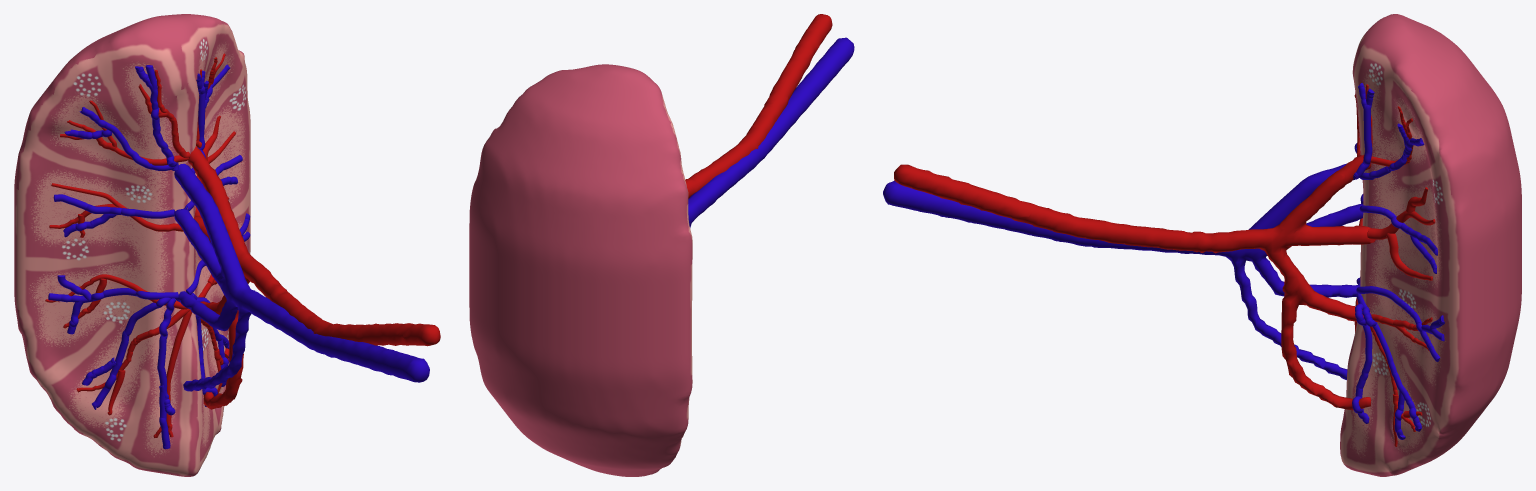
The model's file is spleen_model.glb.
3 renders of one model, left to right at view 1: azimuth 30°, elevation 25°; view 2: azimuth 150°, elevation 25°; view 3: azimuth 270°, elevation 25°, orthographic. The views are drawn at different scales.
Visible parts, largest first — view 1: Object_9, Object_8, Object_7, Object_5, Object_4, Object_6, Object_3, Object_2; view 2: Object_9, Object_8, Object_5; view 3: Object_9, Object_5, Object_8, Object_6, Object_3, Object_2.
Boxes of the visible parts, box(x1,y1,x2,y2) form: Object_9: box(14, 14, 250, 476); Object_8: box(174, 163, 429, 391); Object_7: box(48, 65, 178, 449); Object_5: box(188, 146, 440, 409); Object_4: box(45, 70, 192, 437); Object_6: box(184, 64, 250, 406); Object_3: box(196, 53, 229, 393); Object_2: box(194, 116, 235, 217); Object_9: box(469, 64, 692, 476); Object_8: box(688, 37, 854, 227); Object_5: box(685, 14, 832, 198); Object_9: box(1340, 14, 1521, 476); Object_5: box(894, 155, 1371, 410); Object_8: box(883, 163, 1363, 380); Object_6: box(1352, 83, 1444, 439); Object_3: box(1363, 84, 1432, 446); Object_2: box(1367, 187, 1435, 280).
Size of the model in its own units: 72.5 by 130 by 172.
Materials: 3 (1 with a texture image).
